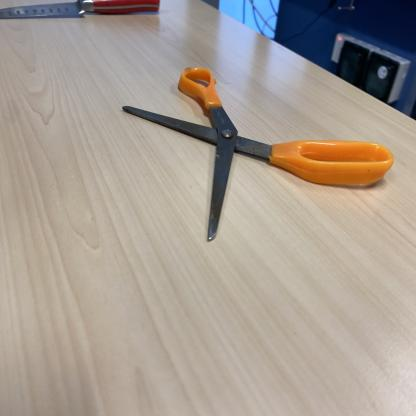Knife: (0, 0, 160, 24)
scissors: (123, 68, 395, 244)
